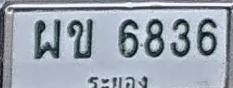3: (170, 18, 190, 57)
6: (197, 17, 217, 56), (119, 18, 138, 58)
8: (144, 18, 164, 58)
A02: (68, 18, 94, 58)
A28: (34, 19, 61, 59)
